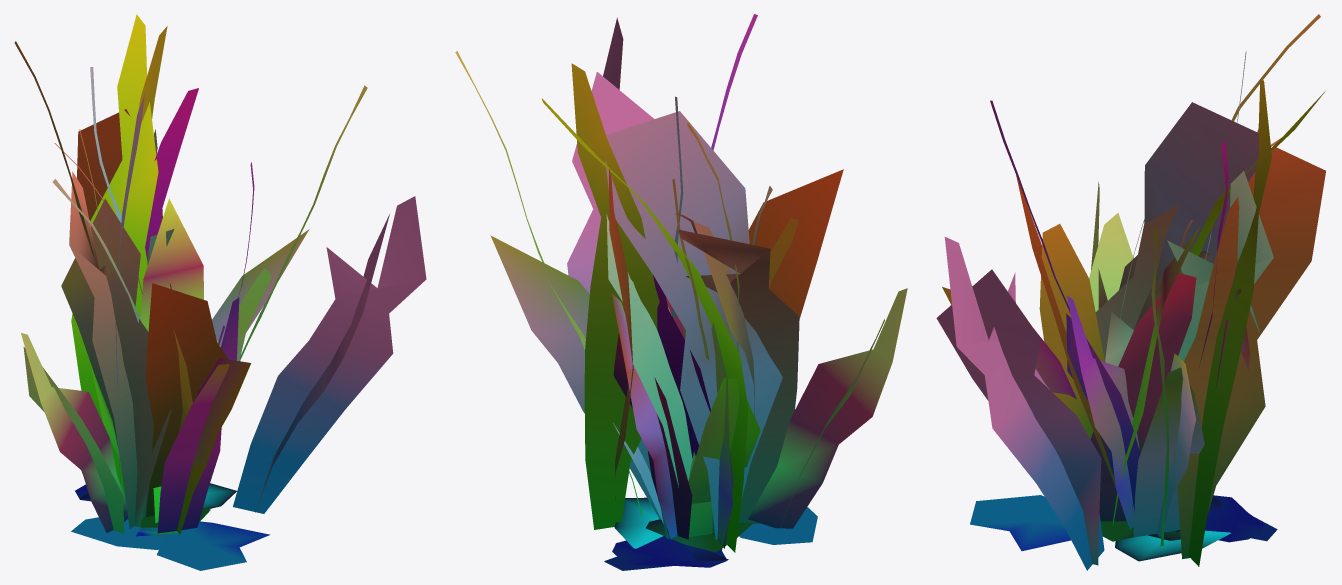
File: uddmcgbia_VarC_LOD0.fbx
3 renders of one model, left to right at view 1: azimuth 30°, elevation 25°; view 2: azimuth 150°, elevation 25°; view 3: azimuth 270°, elevation 25°, orthographic. The views are drawn at different scales.
Parts seen in each view (by area): view 1: _c041_VarC_LOD0; view 2: _c041_VarC_LOD0; view 3: _c041_VarC_LOD0.
Part boxes in pixels (<box>): _c041_VarC_LOD0: <box>14,14,426,570</box>; _c041_VarC_LOD0: <box>455,14,907,570</box>; _c041_VarC_LOD0: <box>936,14,1325,570</box>.
Bounding box in the file's own units: 11.48 × 12.98 × 9.43.
